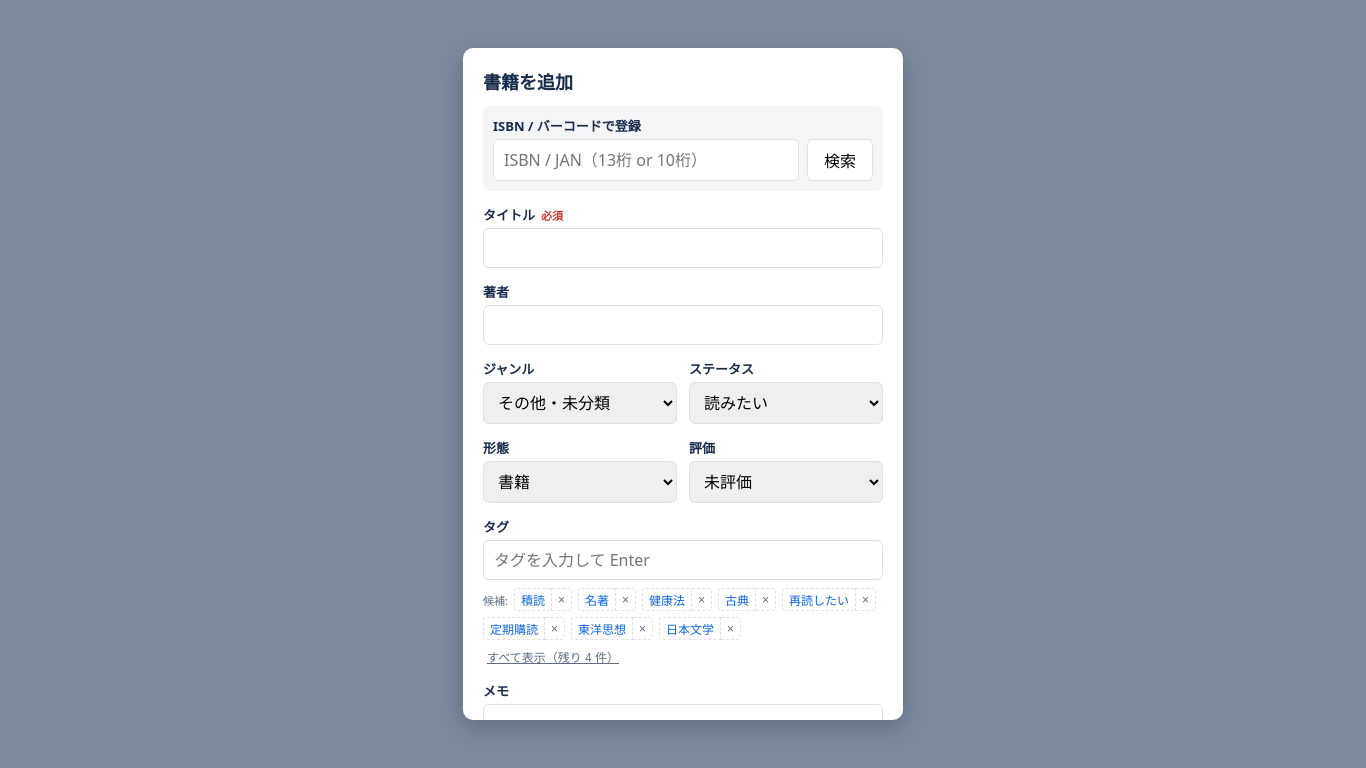
BookFormModal のタグ候補 › 候補が多いときは 8 件だけ出し、「すべて表示」で残りも出し、「少なく表示」で戻す
Click the button with class "tag-suggest-more" at (553, 656), box [483, 646, 623, 667]
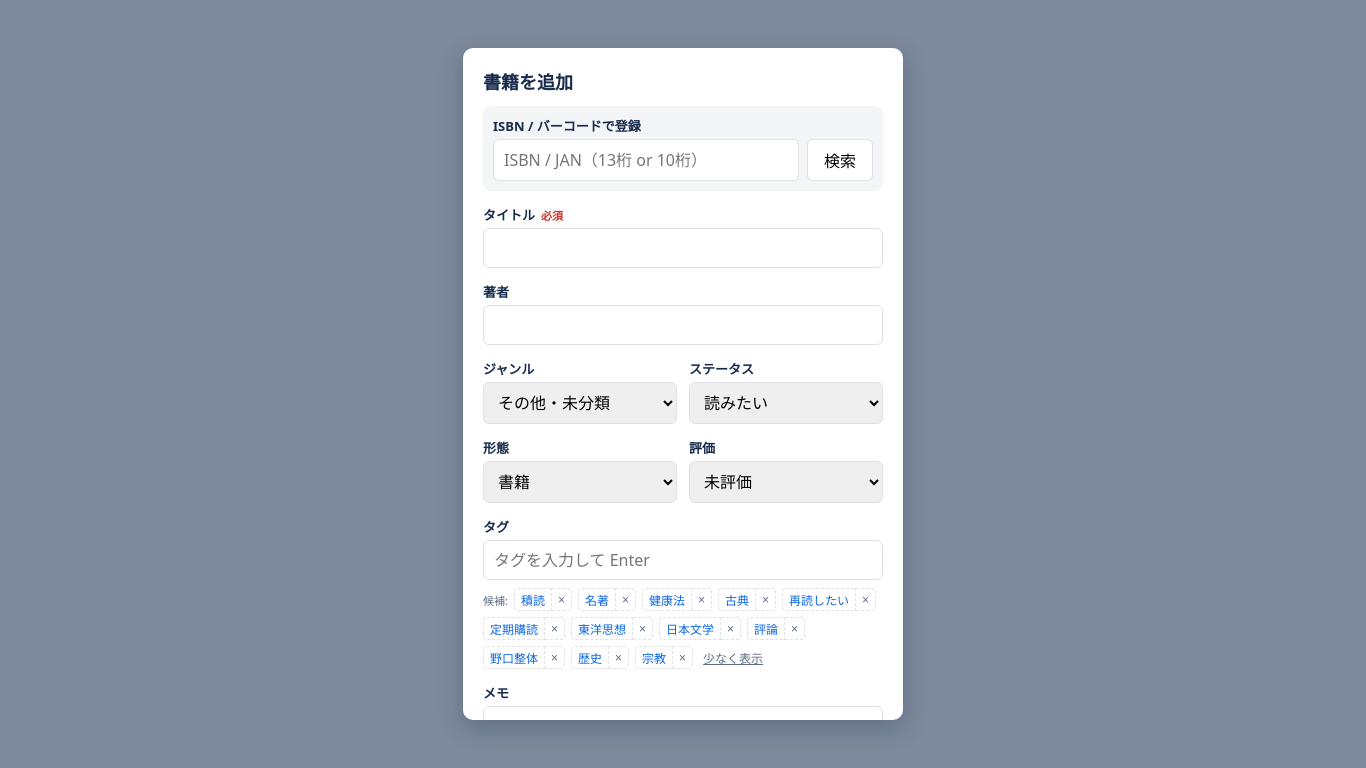
Click the button with class "tag-suggest-more" at (733, 658), box [699, 647, 767, 668]
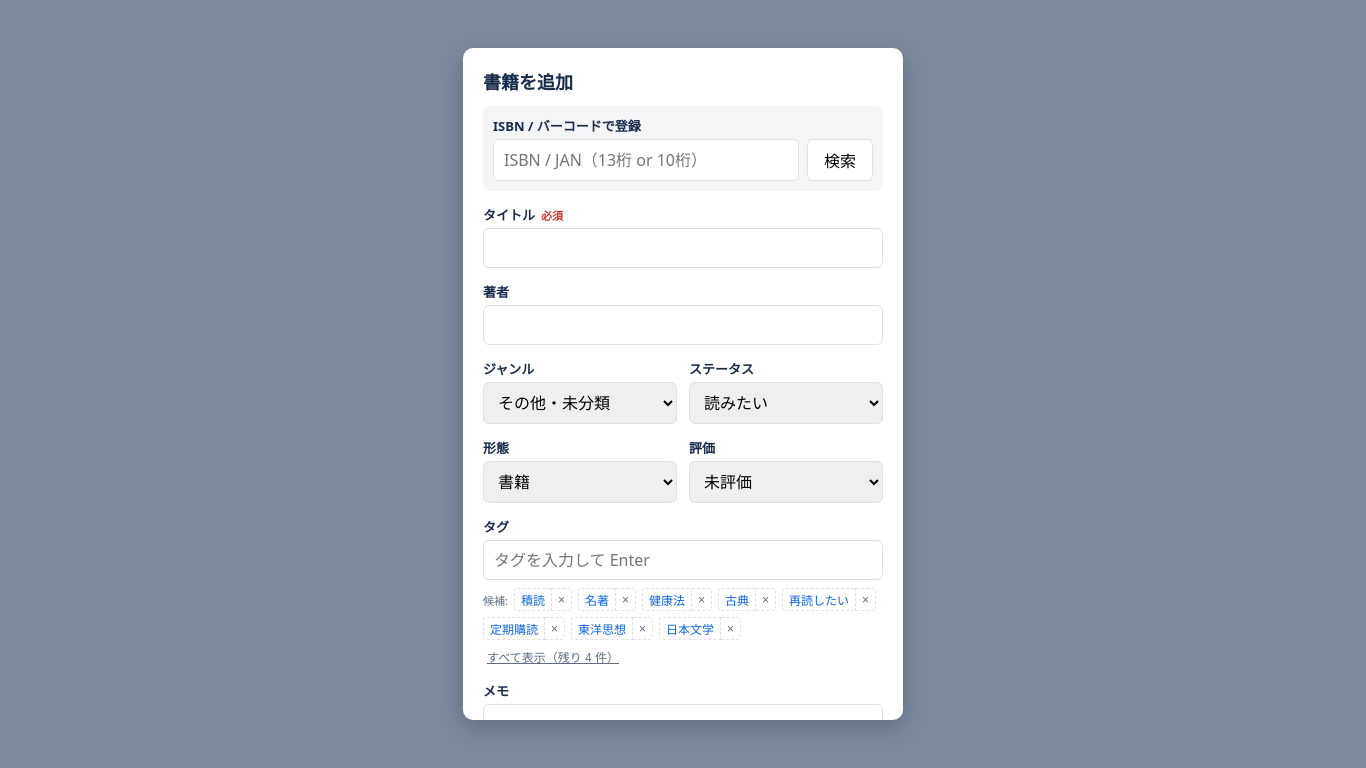
Now the button with class "tag-suggest-more" reads "すべて表示（残り 4 件）", box [483, 646, 623, 667]
